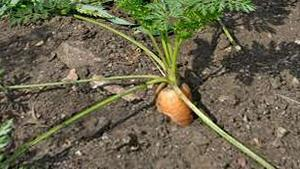carrot: (153, 73, 204, 128)
